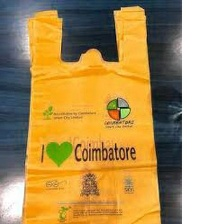plastic_bag: (12, 3, 160, 224)
